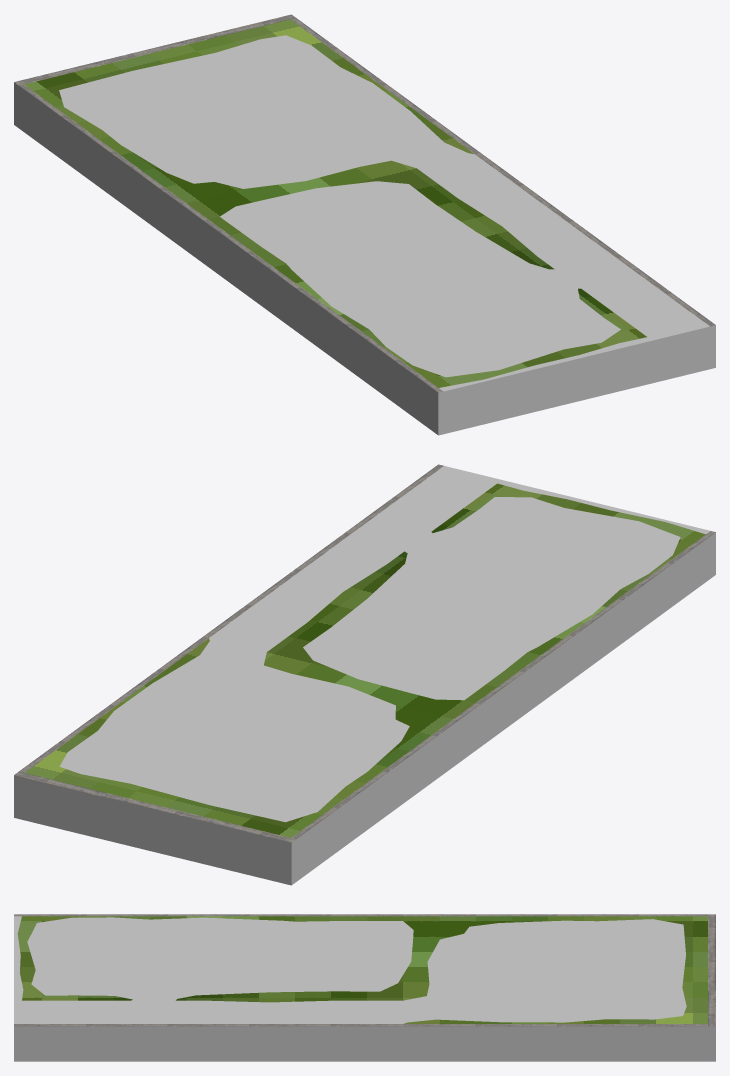
The picture shows the model from 3 angles, top to bottom: view 1: azimuth 30°, elevation 25°; view 2: azimuth 150°, elevation 25°; view 3: azimuth 270°, elevation 25°; orthographic projection. The views are drawn at different scales.
Visible parts, largest first — view 1: BB_020_d2; view 2: BB_020_d2; view 3: BB_020_d2.
Part boxes in pixels (box(x1,y1,x2,y2)): BB_020_d2: box(14, 14, 715, 435); BB_020_d2: box(14, 464, 715, 885); BB_020_d2: box(14, 914, 715, 1061).
Size of the model in its own units: 13.59 by 2 by 36.
